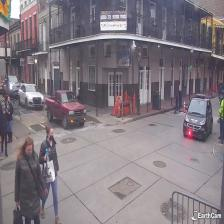person: (14, 136, 48, 224), (38, 125, 60, 224)
